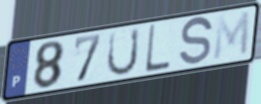7: (73, 32, 103, 85)
8: (31, 39, 66, 91)
L: (143, 22, 172, 75)
M: (211, 10, 252, 63)
S: (177, 14, 215, 69)
U: (105, 26, 142, 78)
